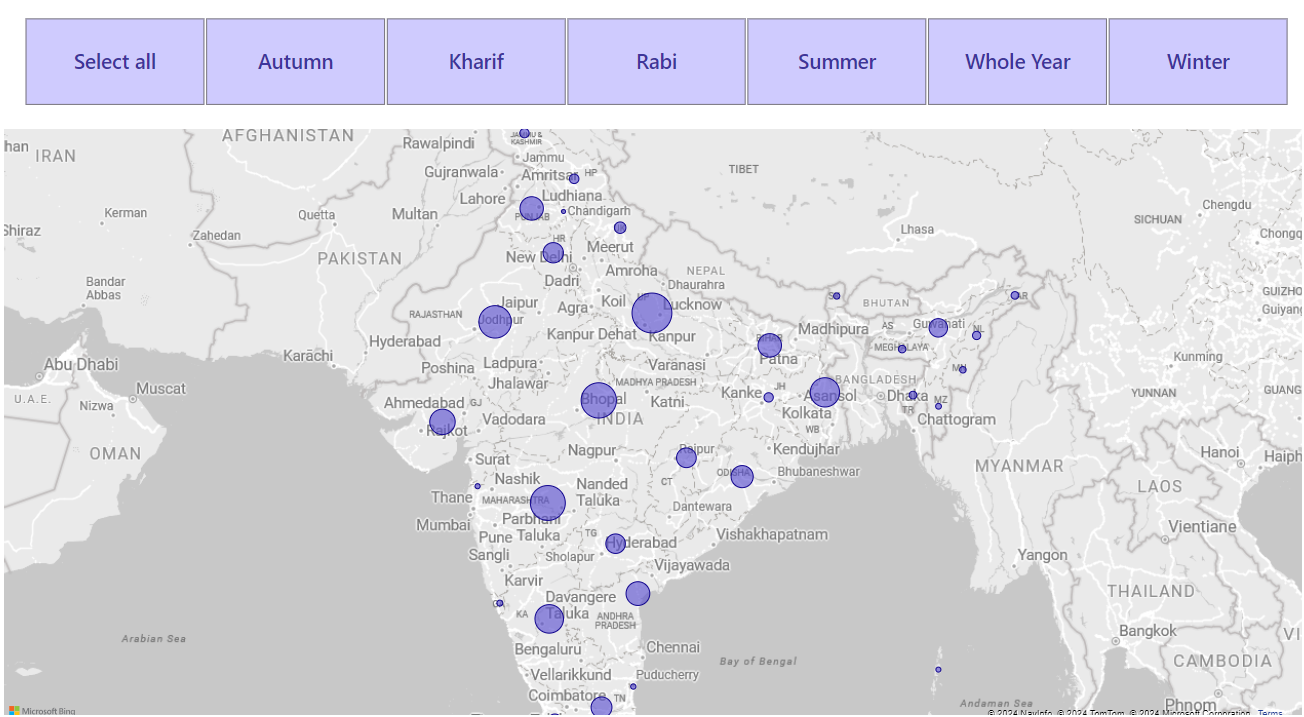

Layout of this report page (visuals, bound fields, positions):
{"tool":"powerbi","page":{"name":"Geo","canvas":[1280,720],"ordinal":1},"visuals":[{"type":"map","fields":{"Category":["Crop Production data.State_Name"],"Size":["Sum(Crop Production data.Area)"]},"box":[0,127,1281,592.1],"z":0},{"type":"slicer","fields":{"Values":["Crop Production data.Season"]},"box":[0,17.5,1279.4,98.4],"z":1000}]}

Visuals, with their boxes in screenshot pixels (x1, y1, x2, y2), scaled from the page's 1280x720 canvas onto the 1304x717 screenshot:
map - Crop Production data.State_Name x Sum(Crop Production data.Area): crop(0, 126, 1303, 716)
slicer - Crop Production data.Season: crop(0, 17, 1303, 115)
